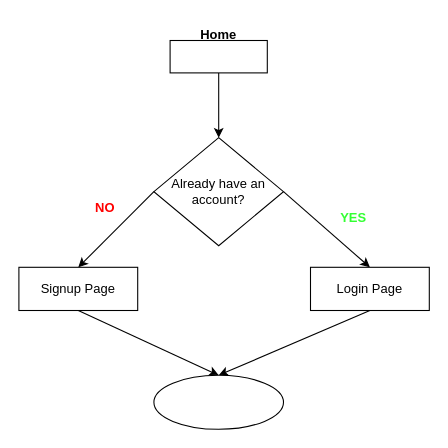
This 448x448 diagram has some shape labels left out. The shapes that lost their labels are listed below. From the top down, each one's centre as x and y in pixels, then its label:
[218,56]: Signup
[218,401]: MAIN
